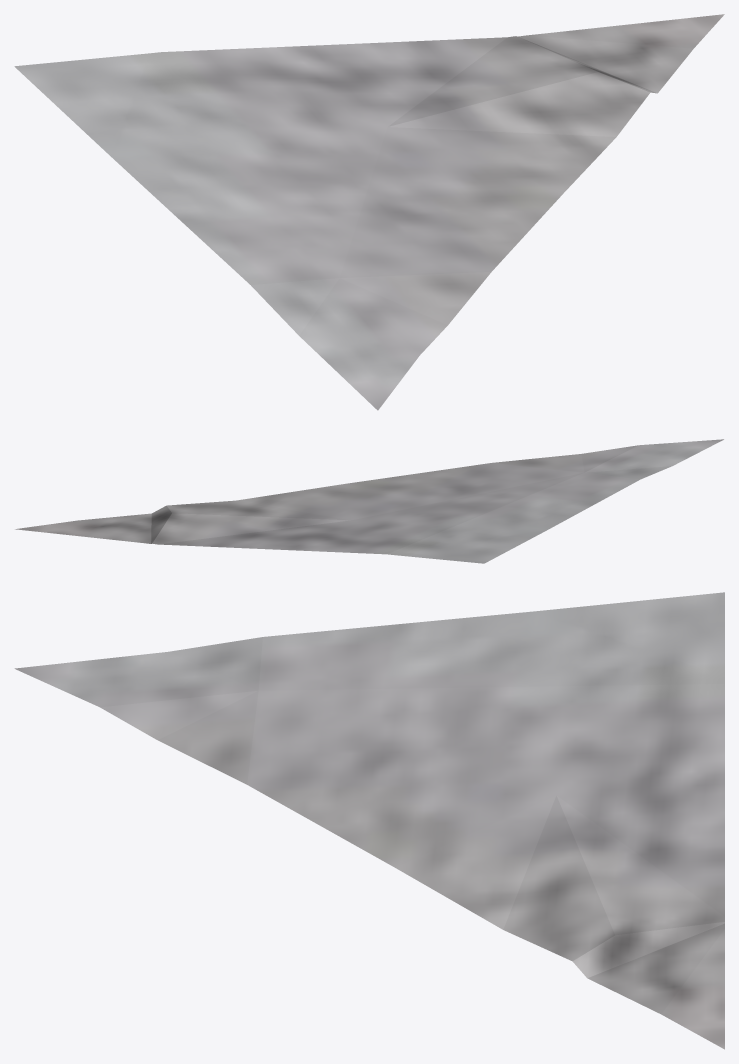
3 views of the same model, one above another, from view 1: azimuth 30°, elevation 25°; view 2: azimuth 150°, elevation 25°; view 3: azimuth 270°, elevation 25° (orthographic). The views are drawn at different scales.
Size of the model in its own units: 0.6409 by 0.1045 by 0.5683.
1 material, 1 textured.
